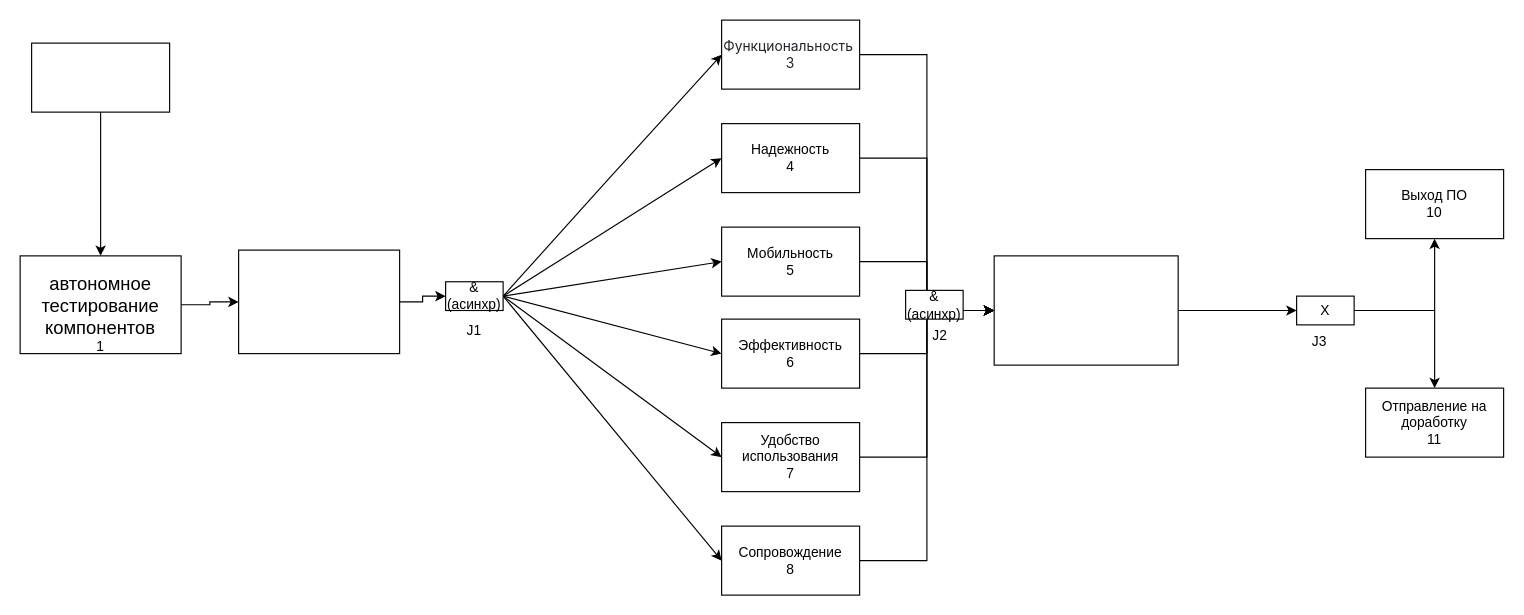
Some shapes in this 1524 by 615 pixel diagram are drawn without their labels. The shapes that lost their labels are listed below. From the top down, each one's centre as x and y in pixels, then its label:
At (100,77): "ПО".
At (318,301): "комплексное тестирование разрабатываемого 2".
At (1085,310): "тестирование на соответствие запросам заказчика 9".
